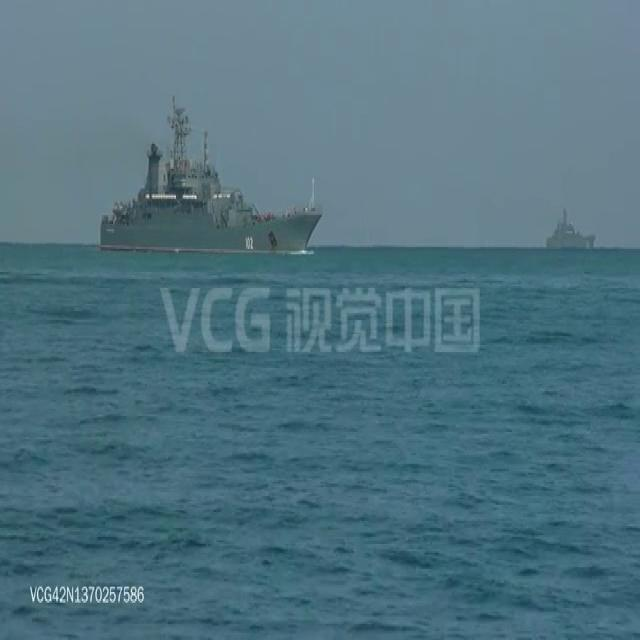navalvessels: (100, 92, 325, 252), (544, 203, 597, 249)
